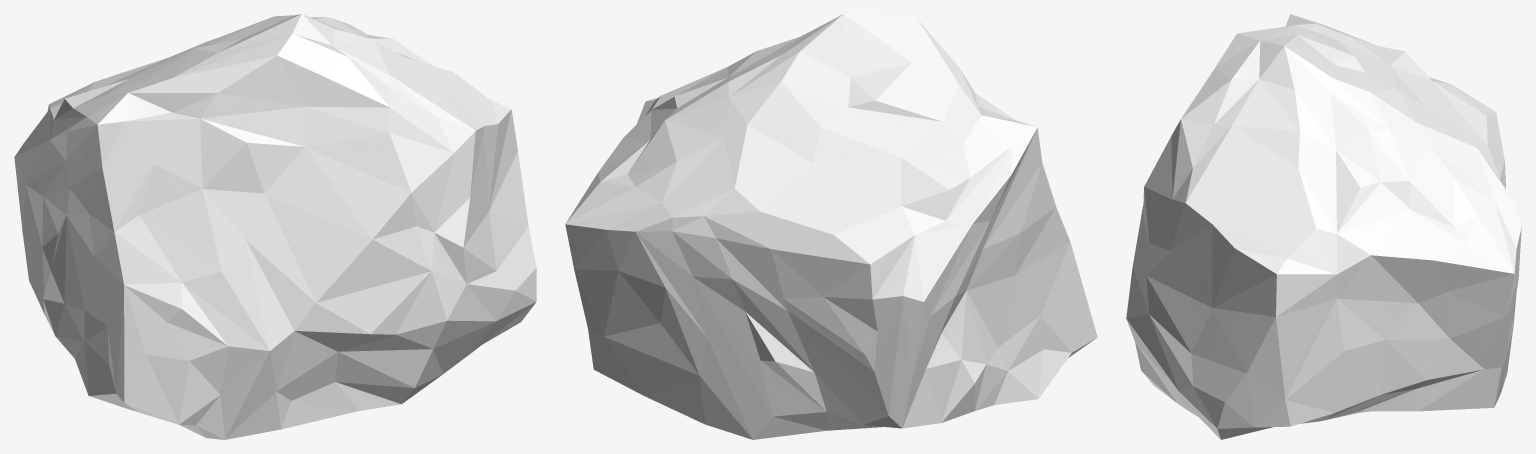
The model's file is rock-2.glb.
3 renders of one model, left to right at view 1: azimuth 30°, elevation 25°; view 2: azimuth 150°, elevation 25°; view 3: azimuth 270°, elevation 25°, orthographic. The views are drawn at different scales.
Parts seen in each view (by area): view 1: skp6BC; view 2: skp6BC; view 3: skp6BC.
Boxes of the visible parts, x1,y1,x2,y2 form: skp6BC: (14,14,536,439); skp6BC: (565,14,1097,439); skp6BC: (1126,14,1521,439).
Bounding box in the file's own units: 0.8933 × 0.7202 × 0.7574.
1 material, 1 textured.
